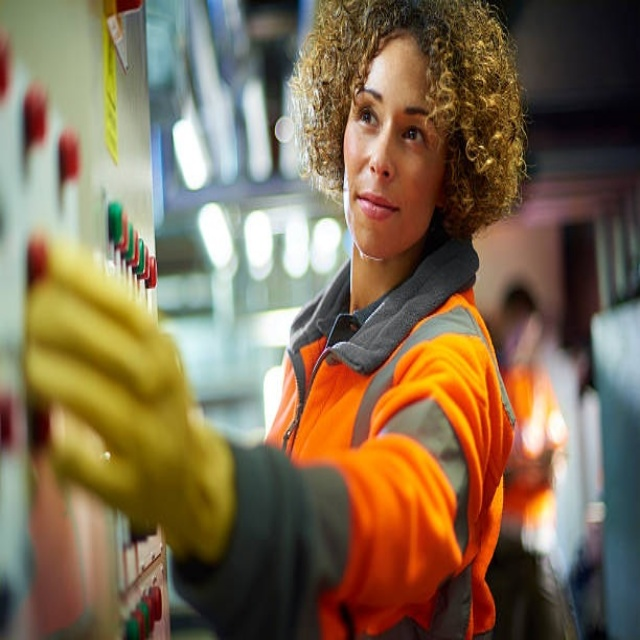Guantes: (24, 237, 236, 564)
Sin_gafas: (351, 86, 427, 155)
Sin_mascara: (349, 177, 411, 243)
